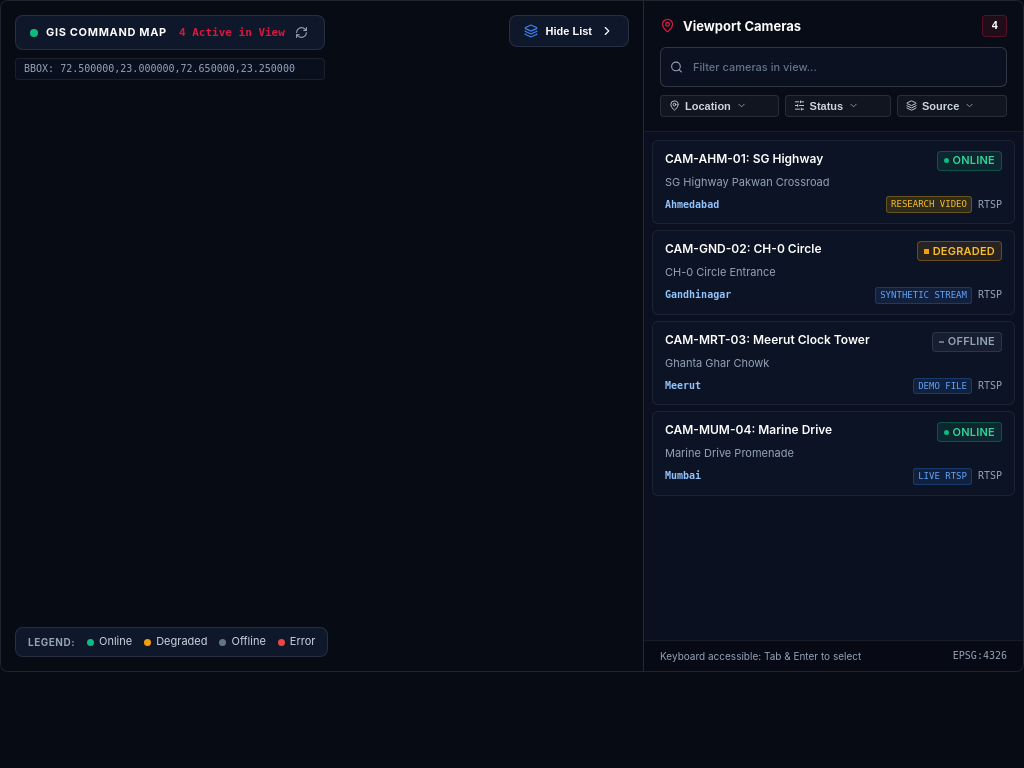
Scenario: GIS Camera Map Component (Phase 4B) › Scalable Dynamic Filter Architecture › populates states and cities dynamically from camera dataset without hardcoding
Check: the text "CAM-AHM-01: SG Highway" is shown, box [665,151,823,166]
Open location dropdown
Click the button with id "gis-filter-dropdown-location": (719, 106) [660,95,779,117]
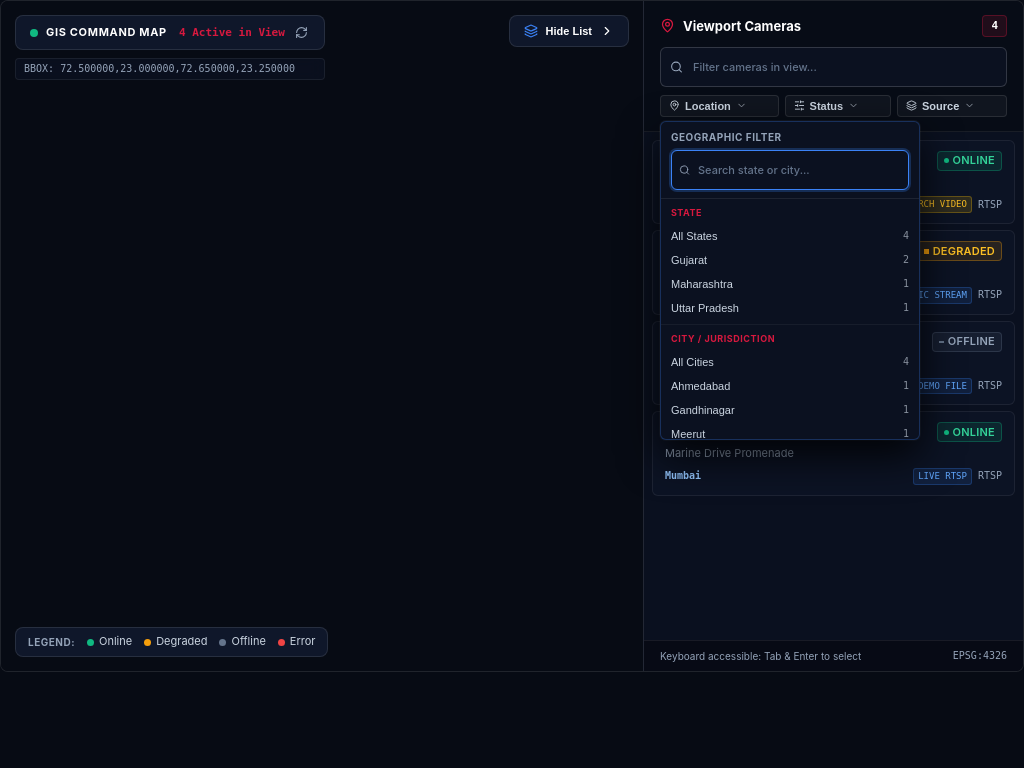
Check: the button with id "gis-filter-state-gujarat" is shown, box [661,248,919,272]
Check: the button with id "gis-filter-state-maharashtra" is shown, box [661,272,919,296]
Check: the button with id "gis-filter-state-uttar-pradesh" is shown, box [661,296,919,320]
